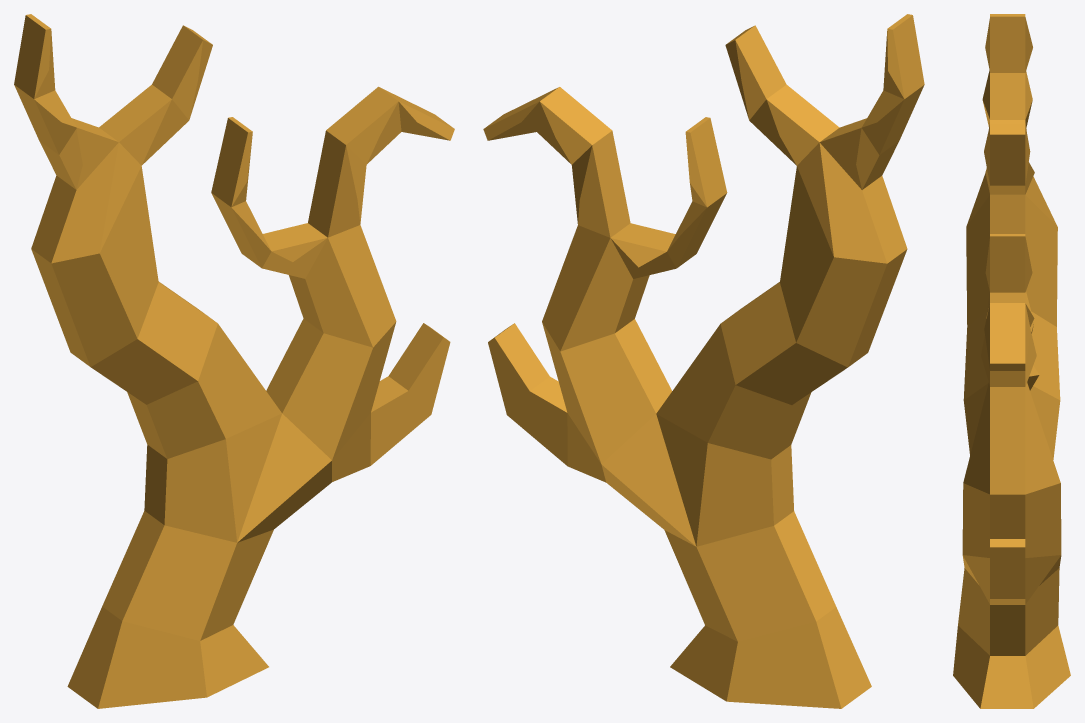
The model's file is coral 3.fbx.
3 views of the same model, side by side, from view 1: azimuth 30°, elevation 25°; view 2: azimuth 150°, elevation 25°; view 3: azimuth 270°, elevation 25° (orthographic). The views are drawn at different scales.
Parts seen in each view (by area): view 1: Plane008; view 2: Plane008; view 3: Plane008.
Boxes of the visible parts, x1=… form: Plane008: x1=14, y1=14, x2=454, y2=708; Plane008: x1=483, y1=14, x2=924, y2=708; Plane008: x1=953, y1=14, x2=1070, y2=708.
Size of the model in its own units: 4.43 by 6.9 by 1.23.
Materials: 1 (1 with a texture image).
